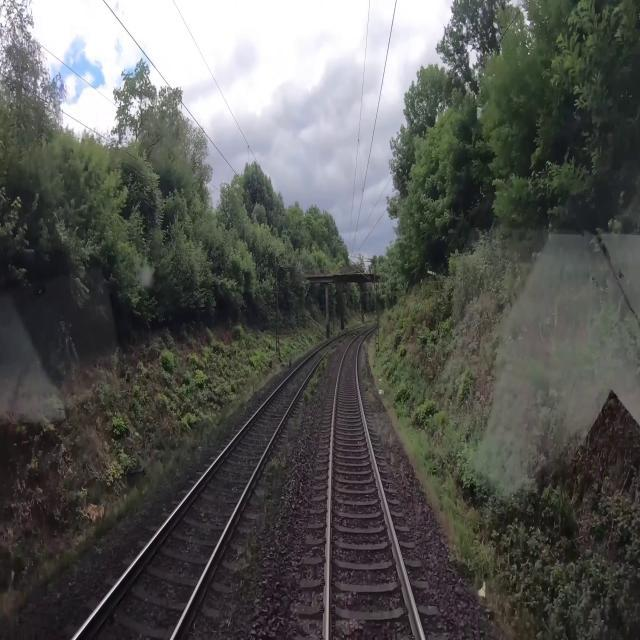Plant: (234, 337, 349, 610), (360, 341, 427, 538)
